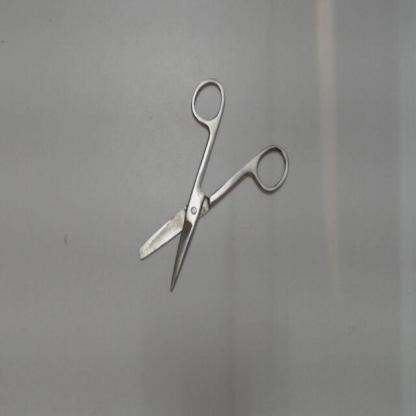Dressing Scissors: (133, 71, 295, 304)
